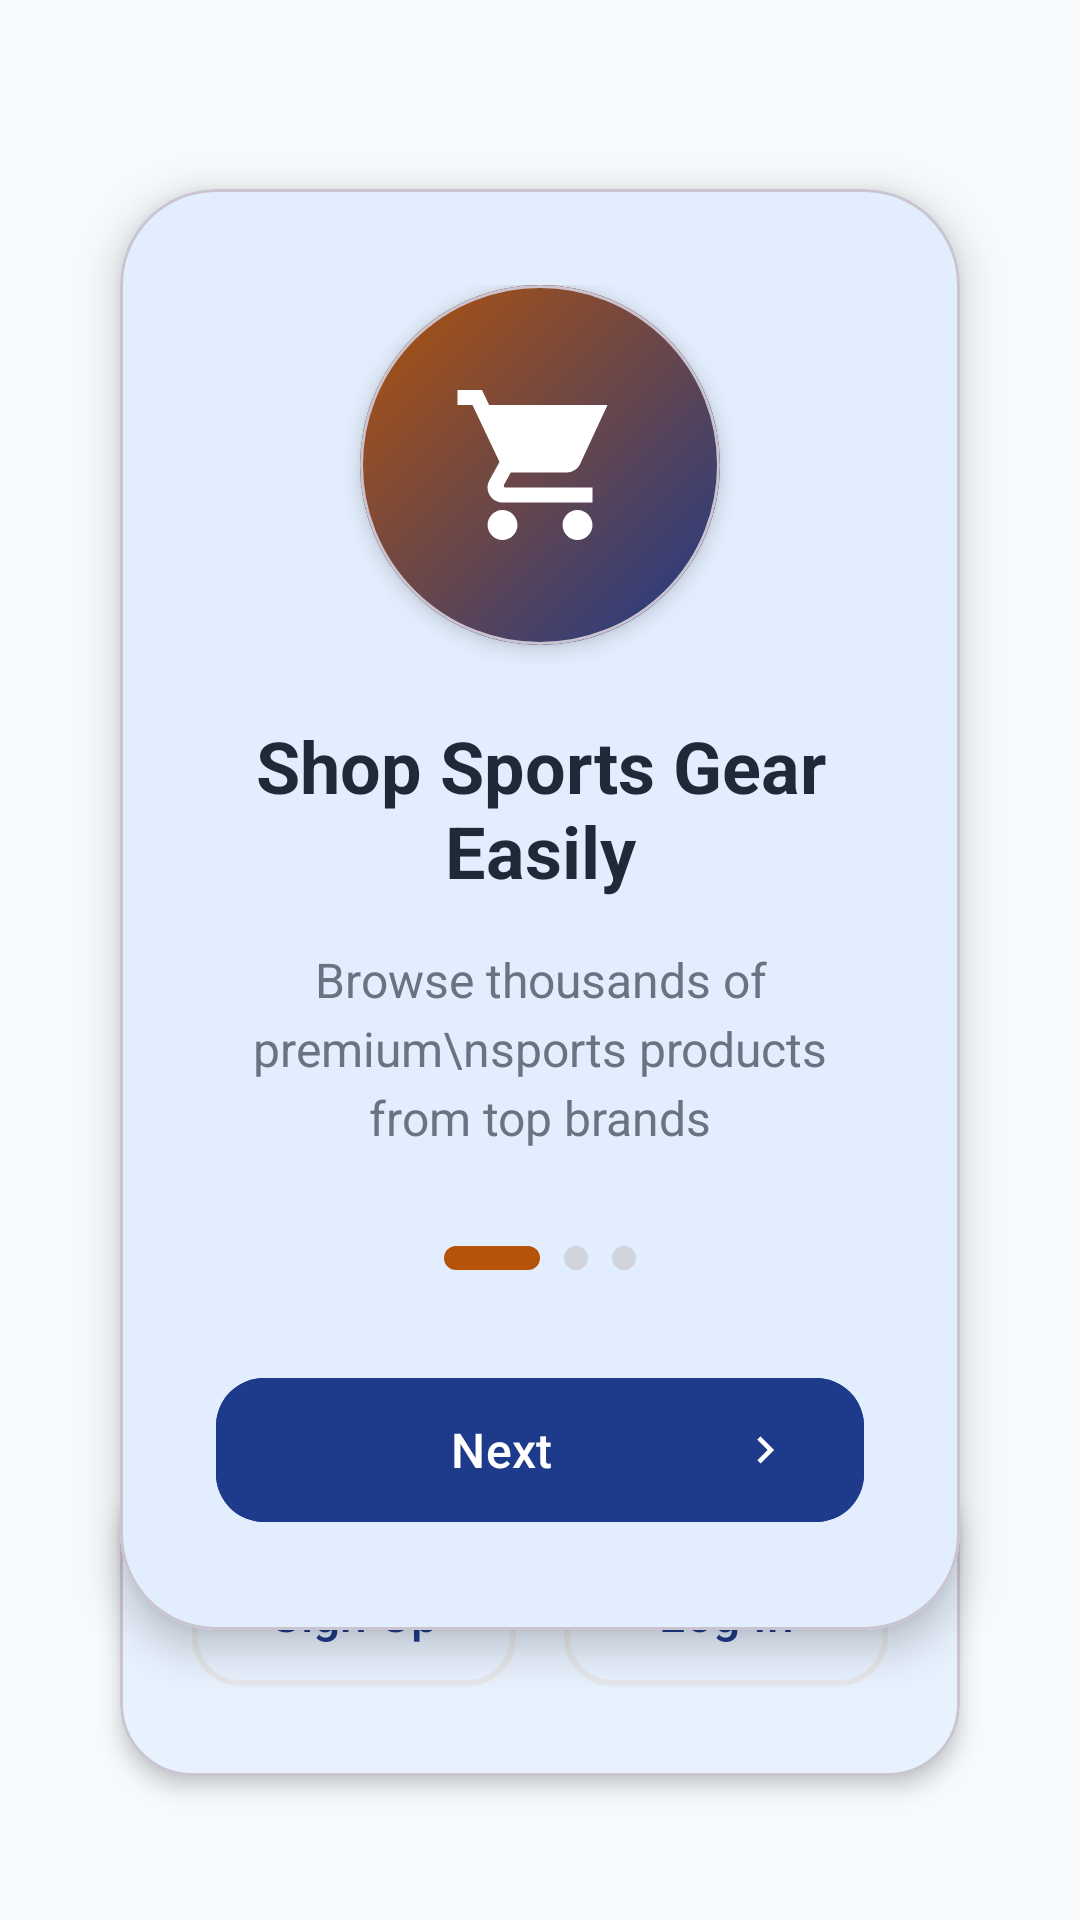

Named icons in this screenshot (1080x1920) and their centers, point (x, y):
cart: point (540, 465)
